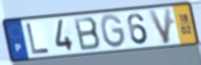4: (54, 18, 75, 54)
6: (126, 13, 149, 46)
B: (72, 15, 102, 52)
G: (99, 13, 128, 50)
L: (25, 22, 52, 56)
V: (146, 6, 172, 46)
